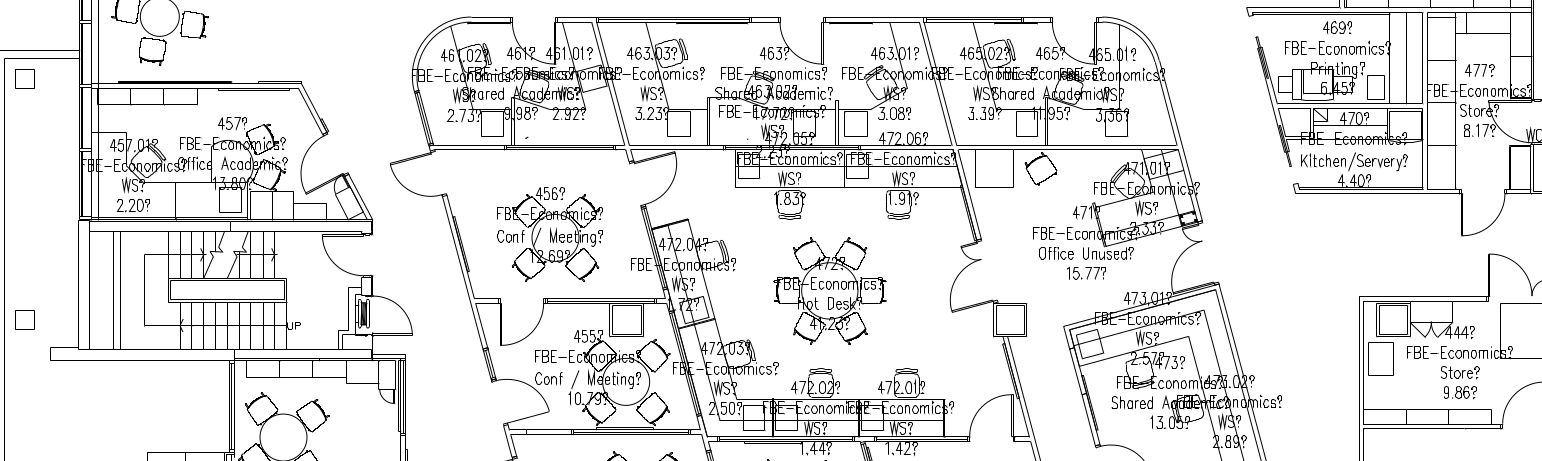door: (1159, 219, 1222, 297), (936, 236, 999, 314), (960, 383, 1018, 453), (492, 357, 550, 427), (491, 283, 549, 353), (385, 142, 443, 212), (293, 126, 351, 196), (628, 148, 683, 213), (502, 1, 557, 66), (774, 1, 829, 65), (1493, 367, 1542, 433), (1485, 245, 1542, 301), (1451, 185, 1508, 241), (312, 231, 376, 278), (368, 290, 432, 337), (1485, 94, 1542, 144), (1041, 16, 1098, 66)
